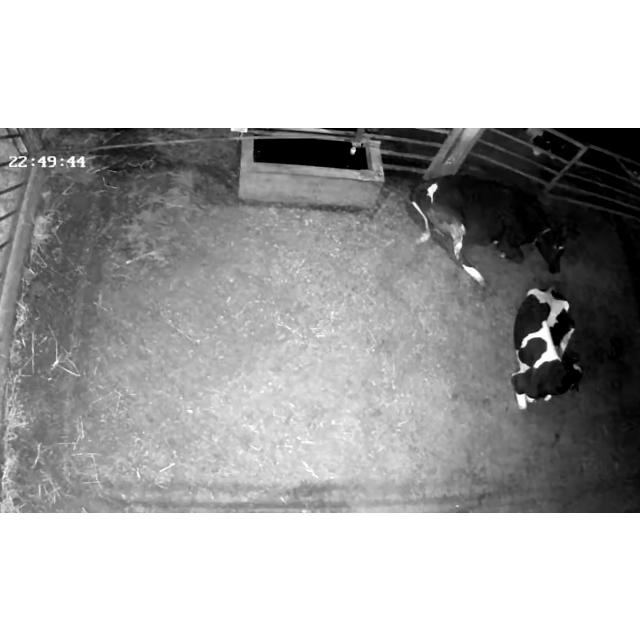lay: (407, 173, 566, 285), (510, 288, 582, 409)
